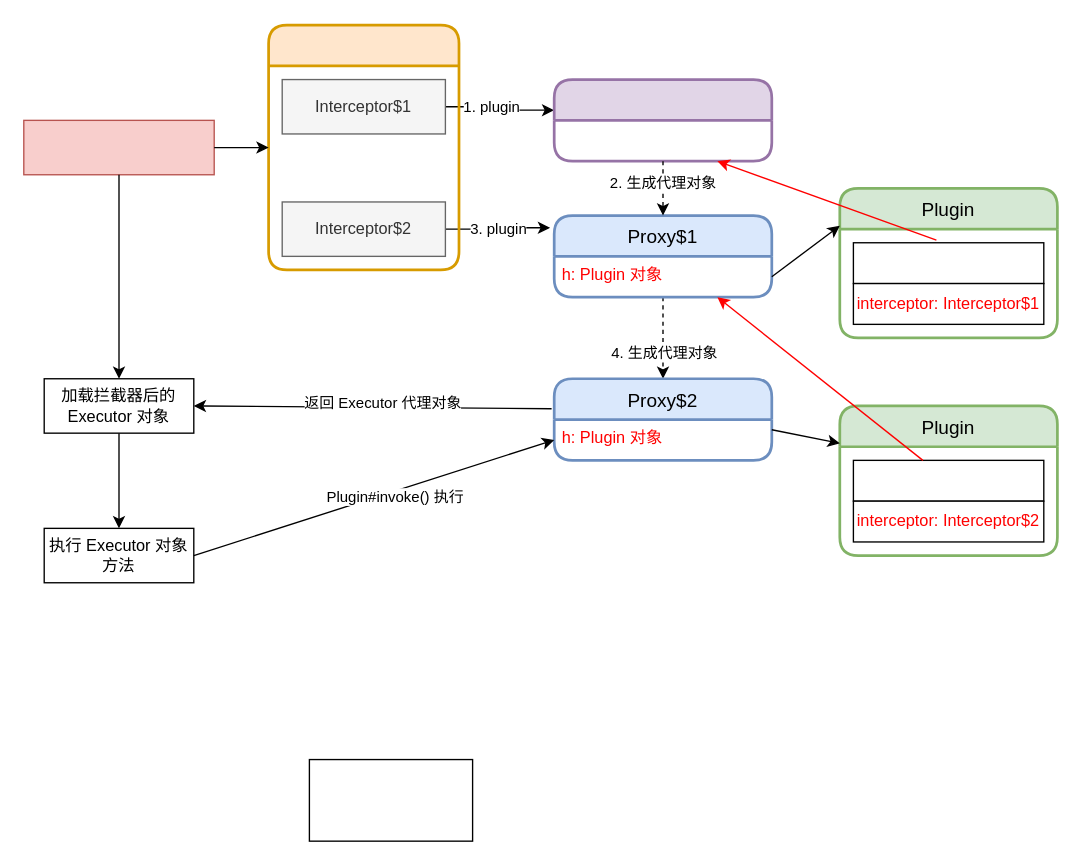
The diagram is 1083 pixels wide and 865 high, and some of its shapes have lost their labels. Each missing label, with the centre of its shape:
InterceptorChain: the point at 363,147
SimpleExecutor: the point at 662,120
target： SimpleExecutor 对象: the point at 948,262
target：Proxy$1 对象: the point at 948,480
为 Executor 加载拦截器: the point at 118,147
